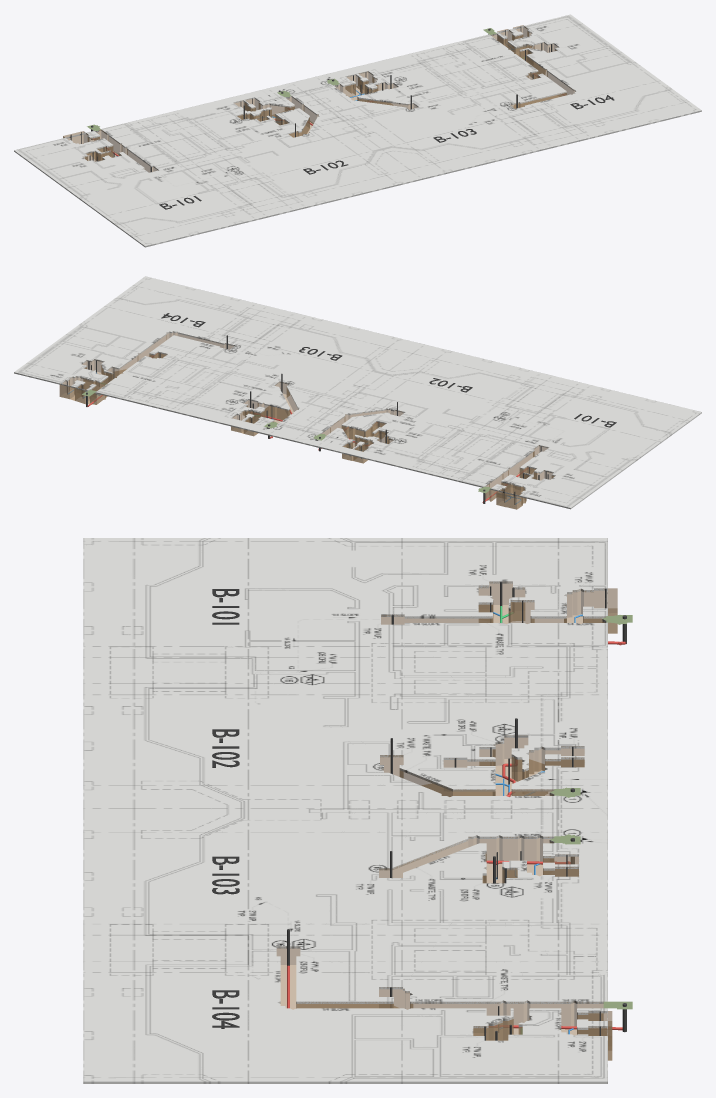
File: Meydenbauer-B-underslab.glb
3 views of the same model, one above another, from view 1: azimuth 30°, elevation 25°; view 2: azimuth 150°, elevation 25°; view 3: azimuth 270°, elevation 25° (orthographic). The views are drawn at different scales.
Parts seen in each view (by area): view 1: Slab-on-grade (massing), B-104-trench-0, B-102-trench-0, B-101-trench-0, B-103-trench-0; view 2: Slab-on-grade (massing), B-104-trench-0, B-101-trench-0, B-102-trench-0, B-103-trench-0; view 3: Slab-on-grade (massing), B-104-trench-0, B-102-trench-0, B-101-trench-0, B-103-trench-0.
Part boxes in pixels (bbox=[...]): Slab-on-grade (massing): bbox=[14, 14, 701, 247]; B-104-trench-0: bbox=[491, 25, 575, 108]; B-102-trench-0: bbox=[234, 96, 318, 137]; B-101-trench-0: bbox=[63, 129, 157, 172]; B-103-trench-0: bbox=[335, 71, 417, 109]; Slab-on-grade (massing): bbox=[14, 276, 701, 509]; B-104-trench-0: bbox=[59, 332, 233, 404]; B-101-trench-0: bbox=[485, 445, 554, 509]; B-102-trench-0: bbox=[321, 409, 403, 463]; B-103-trench-0: bbox=[231, 382, 298, 436]; Slab-on-grade (massing): bbox=[83, 538, 607, 1083]; B-104-trench-0: bbox=[276, 946, 612, 1060]; B-102-trench-0: bbox=[380, 735, 584, 796]; B-101-trench-0: bbox=[381, 581, 617, 633]; B-103-trench-0: bbox=[379, 836, 578, 883].
Size of the model in its own units: 49.53 by 2.07 by 21.17.
Materials: 8 (1 with a texture image).
